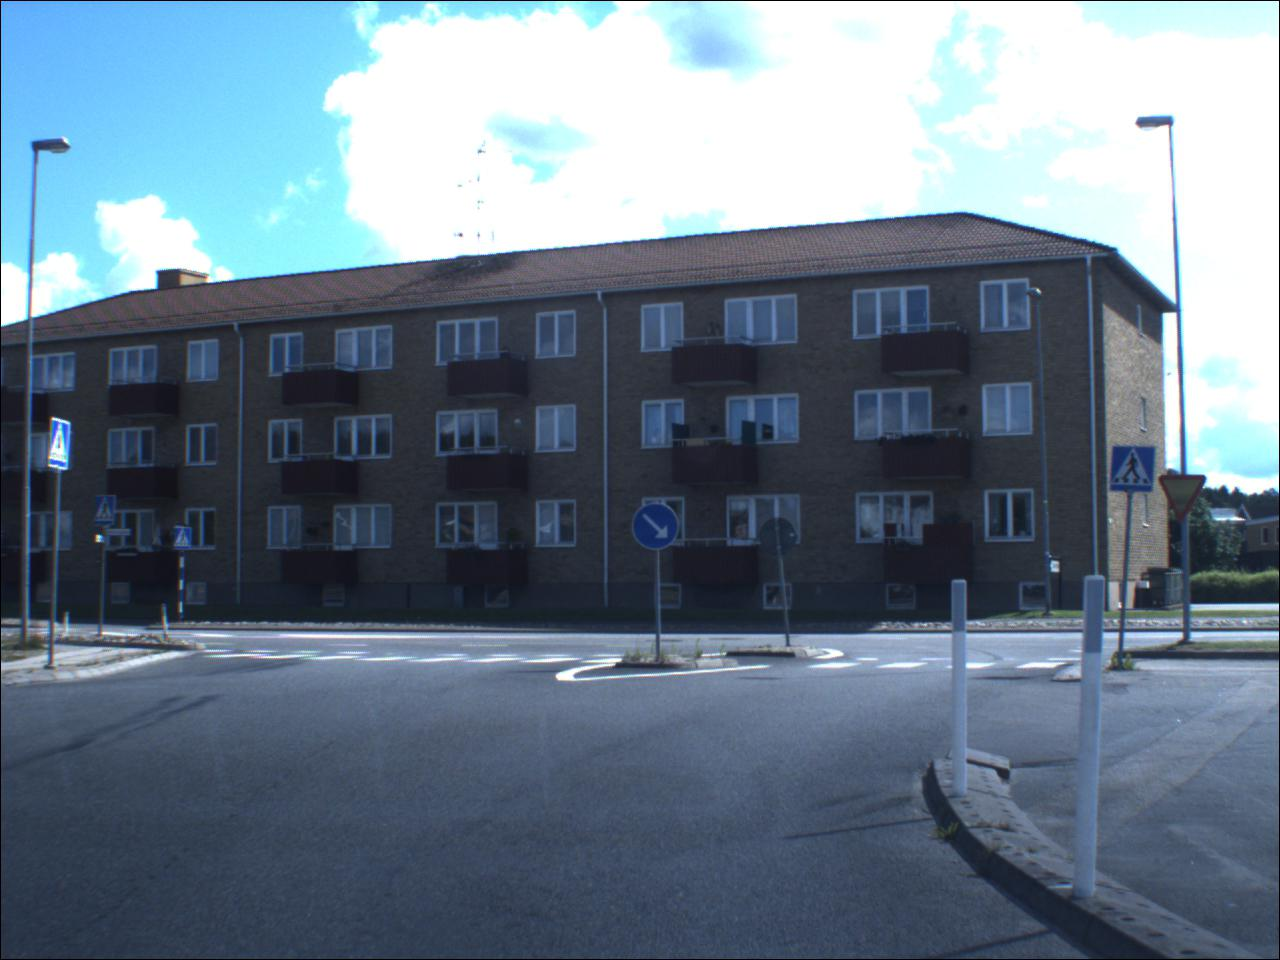GIVE_WAY: (1157, 476, 1210, 526)
PASS_RIGHT_SIDE: (633, 505, 683, 554)
PEDESTRIAN_CROSSING: (1114, 447, 1156, 497), (52, 421, 74, 475), (97, 497, 117, 528), (175, 527, 194, 553)
